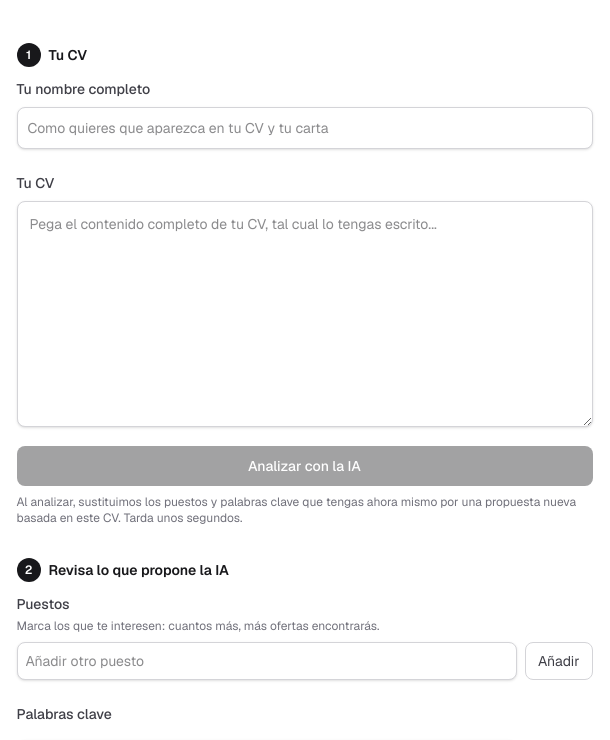
Test case: FormularioPerfil — B2: propuesta automática de puestos y palabras clave (T86/T88) › muestra un mensaje de error si falla el análisis del CV (F2)
The width and height of the screenshot is (610, 740).
Type "Texto de mi CV real" into the text box labelled "Tu CV" at [304, 314], box 16,200 -> 592,426
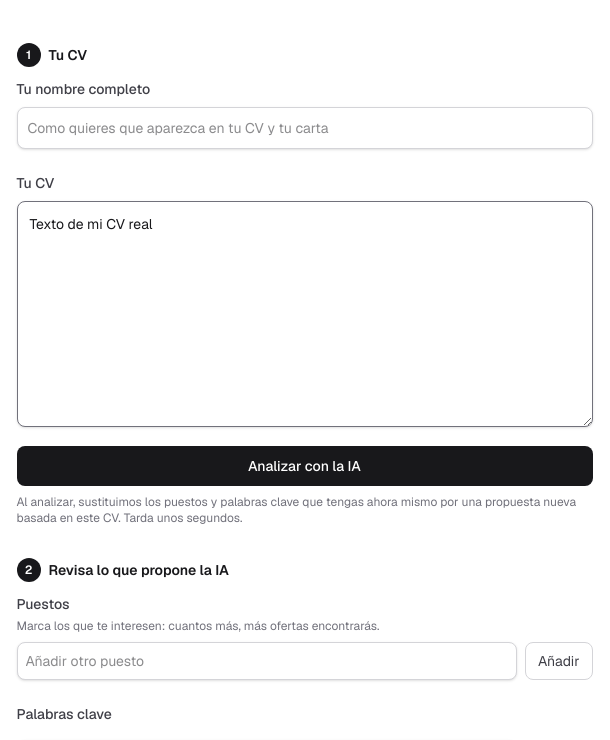
Click the button "Analizar con la IA" at [304, 466], box 16,446 -> 592,486
(page scrolled)
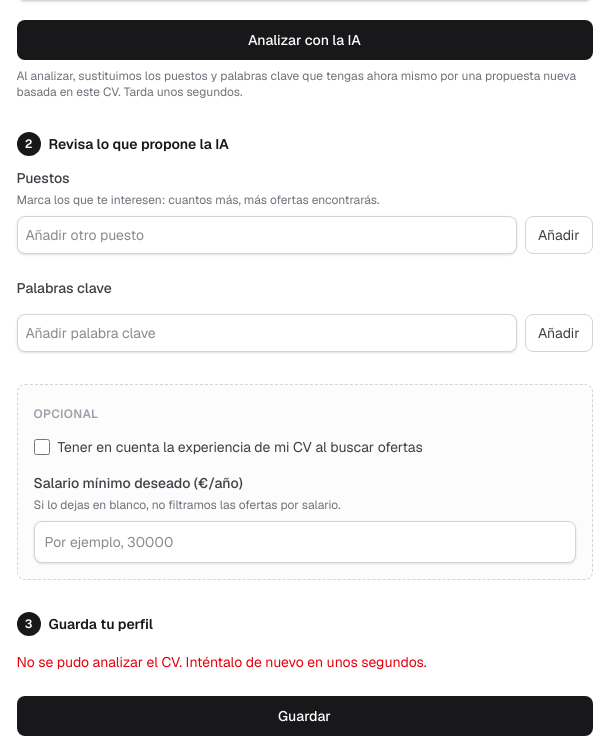
expect the text "No se pudo analizar el CV" is shown: met, box 16,652 -> 427,670
